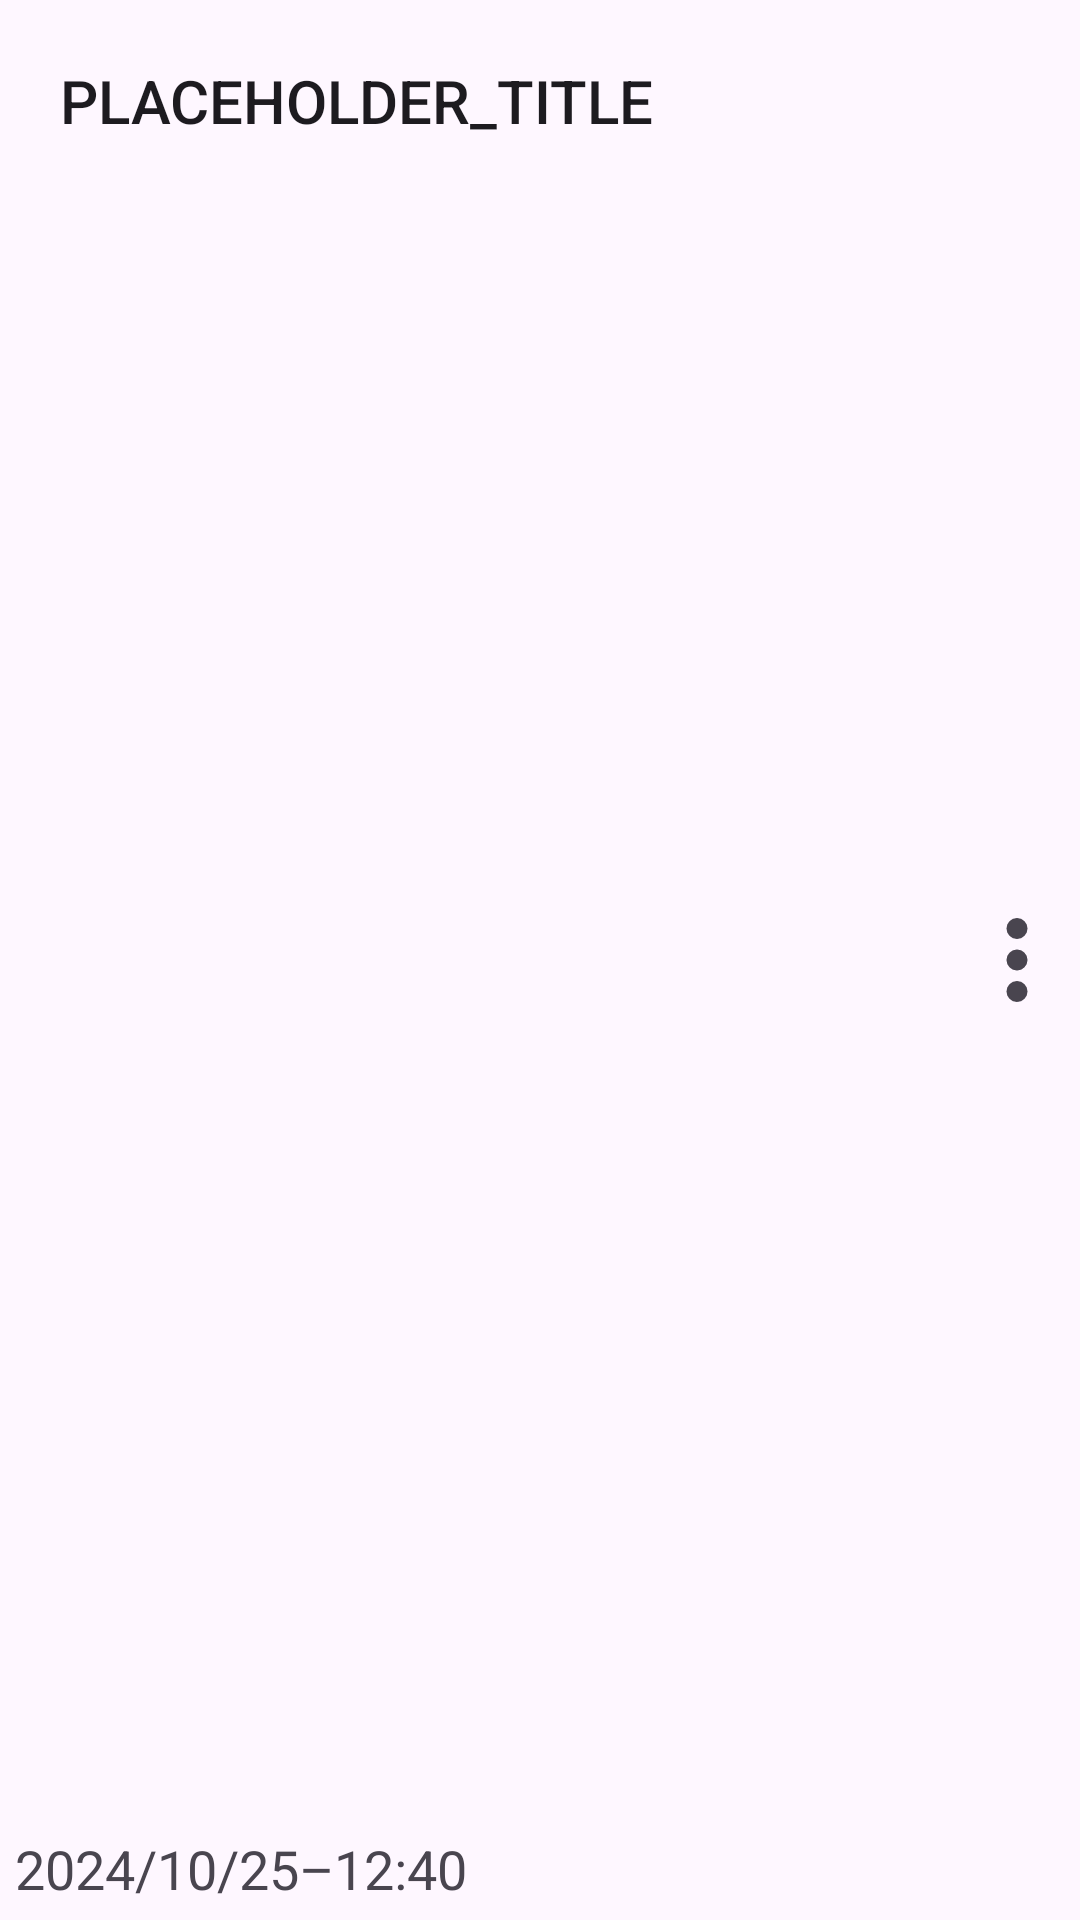

Screen size 1080w x 1920h. Icon name, then its box in pixels as (x1, y1, x2, y2):
more vert: (1006, 918, 1028, 1002)
